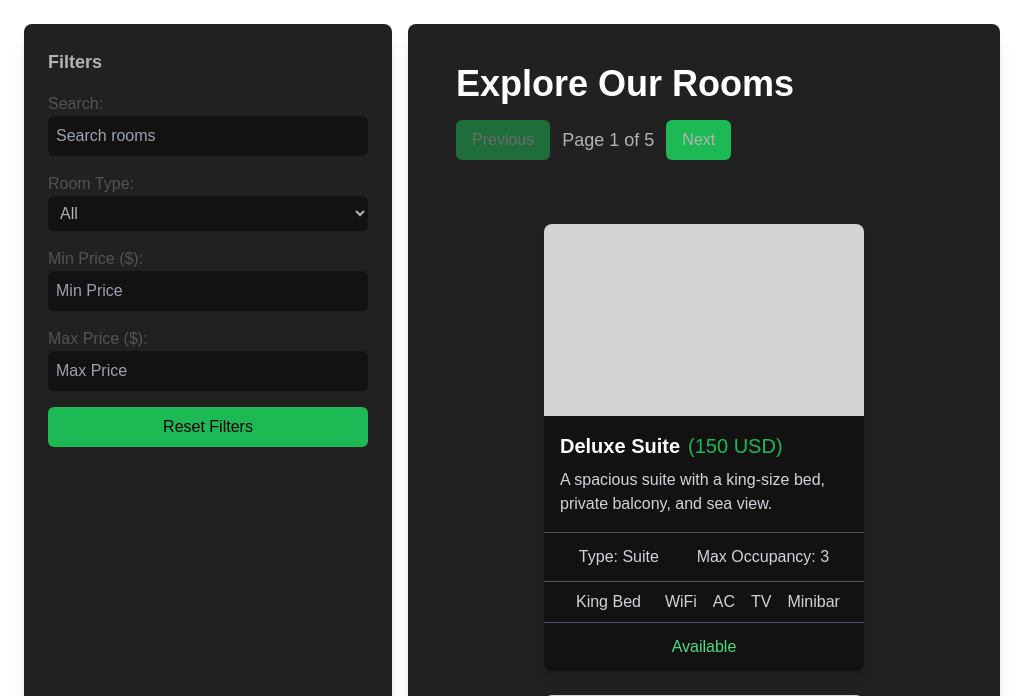
Test: Home Component › handles filter reset
Type "suite" into the field labelled "Search:" at [208, 136], box x1=48 y1=116 x2=368 y2=156
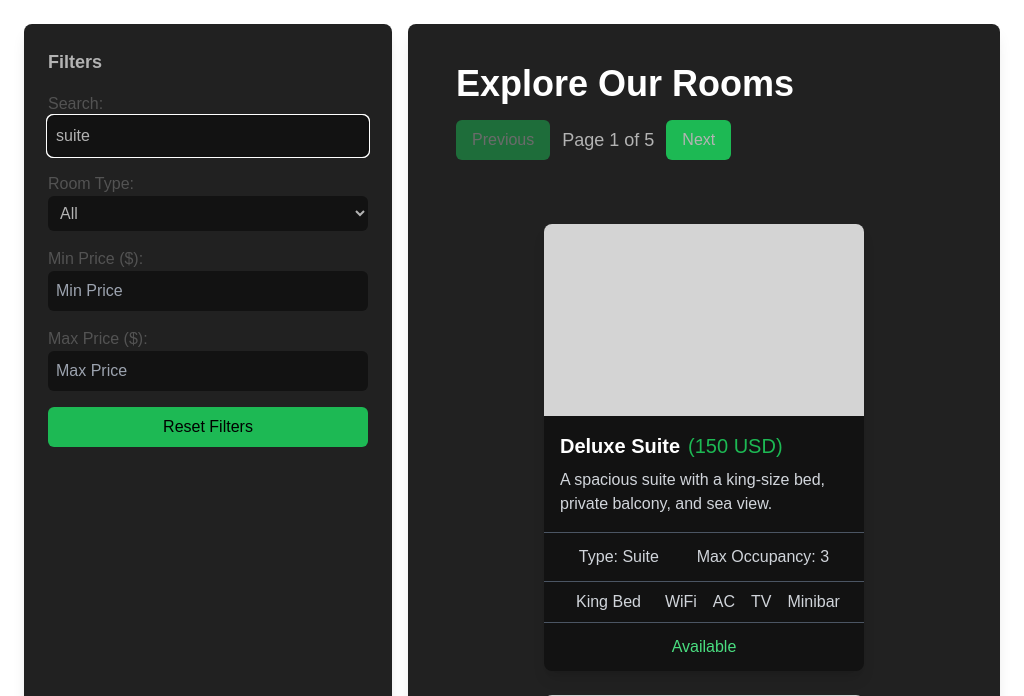
Type "200" into the number field labelled "Min Price ($):" at [208, 291], box x1=48 y1=271 x2=368 y2=311
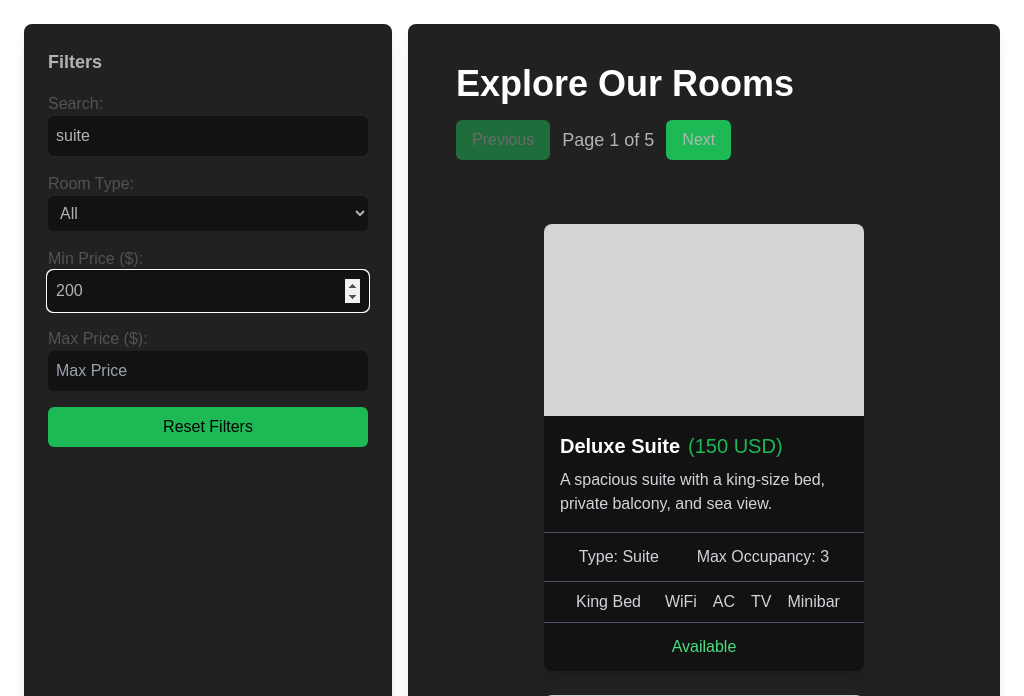
Type "300" into the number field labelled "Max Price ($):" at [208, 371], box x1=48 y1=351 x2=368 y2=391
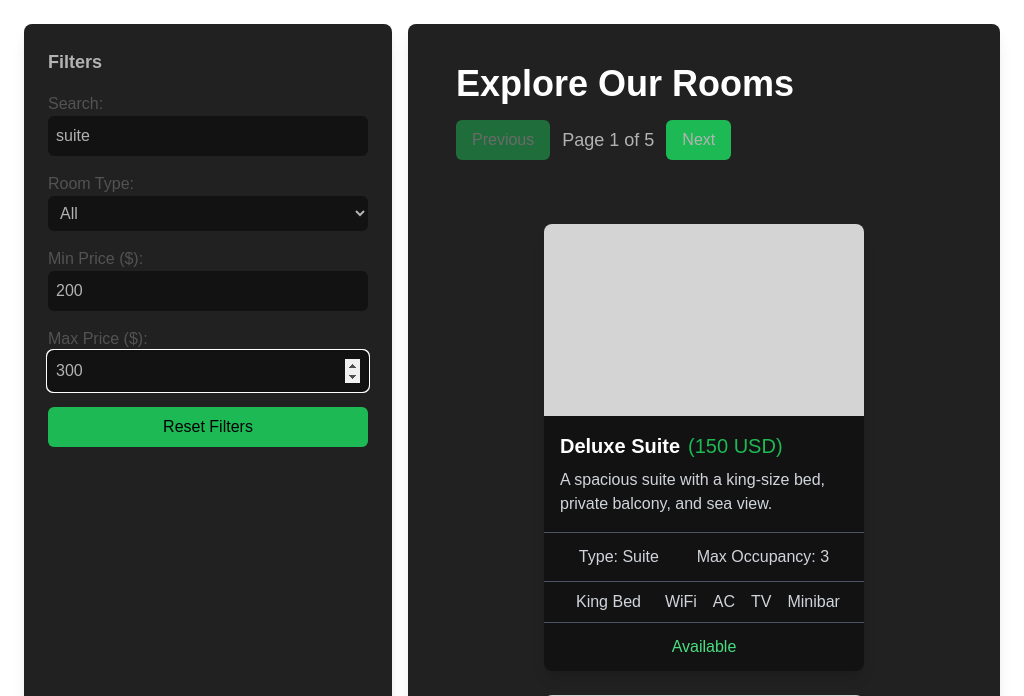
Select "Suite" in the dropdown labelled "Room Type:" at [208, 214], box x1=48 y1=196 x2=368 y2=231
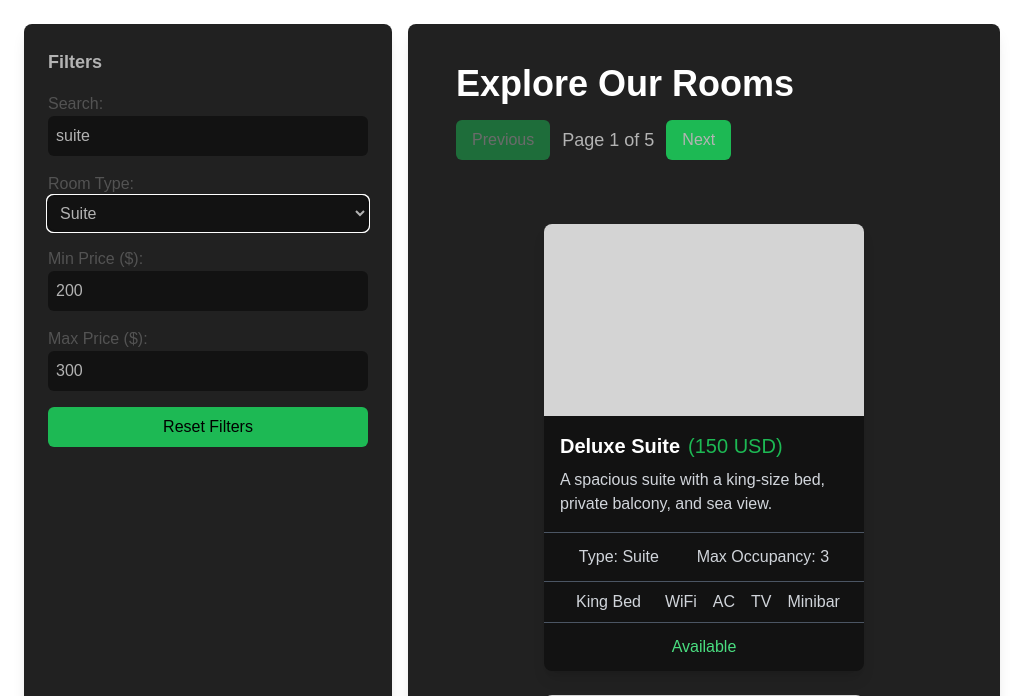
// Click reset button
Click the button "Reset Filters" at [208, 427], box x1=48 y1=407 x2=368 y2=447
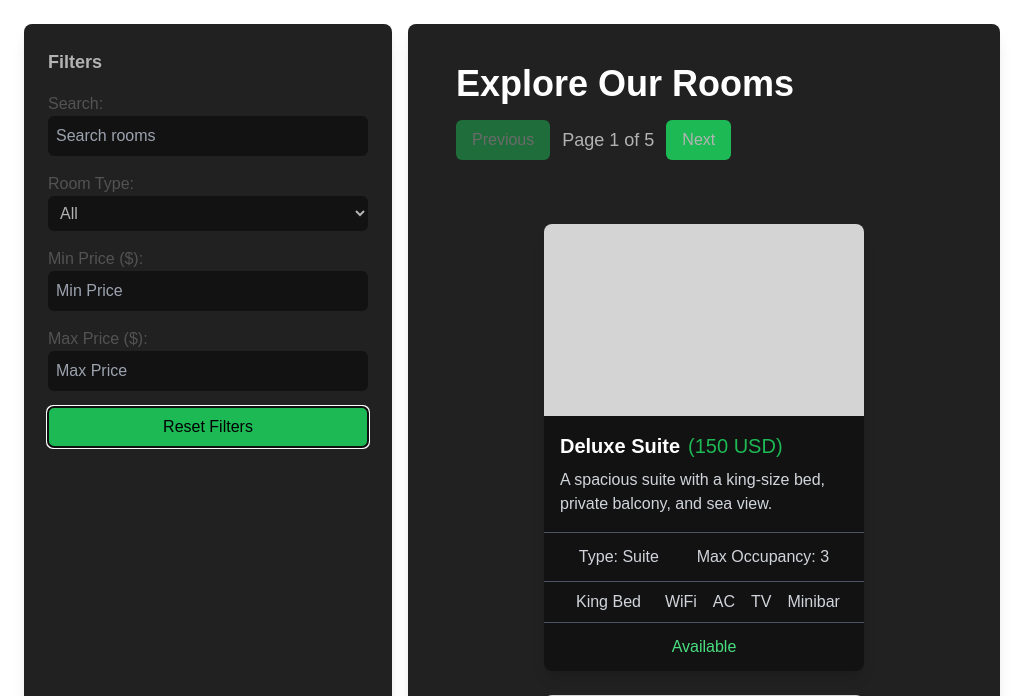
expect the field labelled "Search:" is empty: met, box x1=48 y1=116 x2=368 y2=156
expect the number field labelled "Min Price ($):" is empty: met, box x1=48 y1=271 x2=368 y2=311
expect the number field labelled "Max Price ($):" is empty: met, box x1=48 y1=351 x2=368 y2=391
